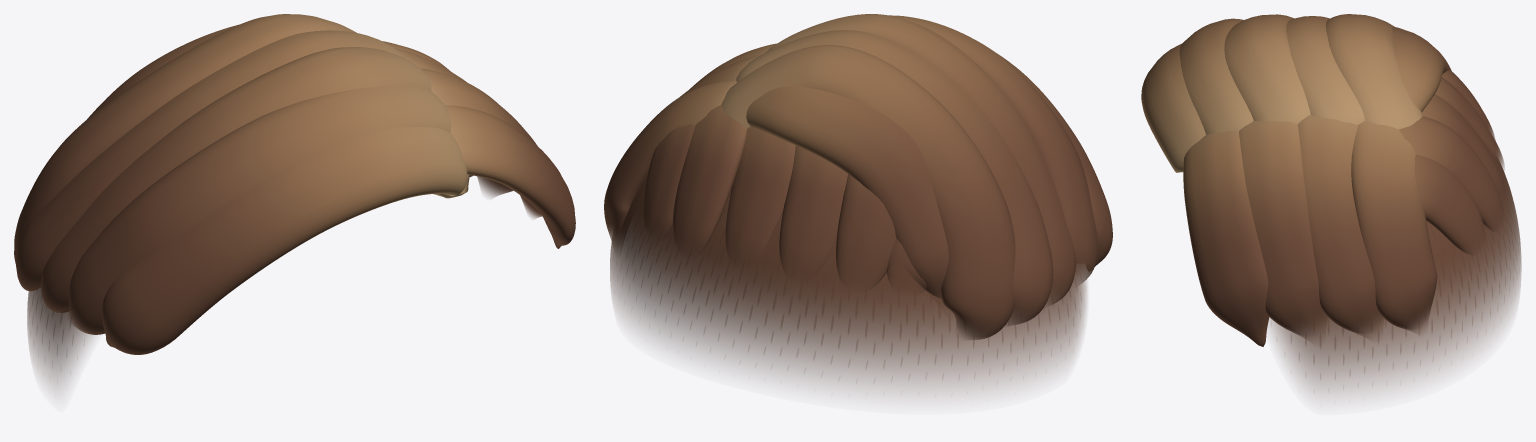
Rendered from Masculine-taper-ears258-hair-ombre.glb.
The picture shows the model from 3 angles, left to right: view 1: azimuth 30°, elevation 25°; view 2: azimuth 150°, elevation 25°; view 3: azimuth 270°, elevation 25°; orthographic projection. The views are drawn at different scales.
Parts seen in each view (by area): view 1: 226 hair / Hair258 / sculpted side sweep 1, 226 hair / Hair258 / sculpted side sweep 0, 226 hair / Hair258 / sculpted side sweep 2, 226 hair / Hair258 / smooth side fade; view 2: 226 hair / Hair258 / sculpted side sweep 0, 226 hair / Hair258 / smooth side fade, 226 hair / Hair258 / sculpted side sweep 1, 226 hair / Hair258 / sculpted side sweep 2, 226 hair / Hair258 / directional fade marks; view 3: 226 hair / Hair258 / sculpted side sweep 1, 226 hair / Hair258 / sculpted side sweep 0, 226 hair / Hair258 / sculpted side sweep 2, 226 hair / Hair258 / smooth side fade, 226 hair / Hair258 / directional fade marks.
Boxes of the visible parts, x1,y1,x2,y2 form: 226 hair / Hair258 / sculpted side sweep 1: (16,30,575,354); 226 hair / Hair258 / sculpted side sweep 0: (14,14,542,334); 226 hair / Hair258 / sculpted side sweep 2: (41,47,513,312); 226 hair / Hair258 / smooth side fade: (27,287,94,390); 226 hair / Hair258 / sculpted side sweep 0: (672,15,1098,339); 226 hair / Hair258 / smooth side fade: (610,179,1086,394); 226 hair / Hair258 / sculpted side sweep 1: (604,30,1112,325); 226 hair / Hair258 / sculpted side sweep 2: (643,14,1076,304); 226 hair / Hair258 / directional fade marks: (618,180,1081,368); 226 hair / Hair258 / sculpted side sweep 1: (1141,16,1504,346); 226 hair / Hair258 / sculpted side sweep 0: (1179,14,1503,337); 226 hair / Hair258 / sculpted side sweep 2: (1224,14,1504,334); 226 hair / Hair258 / smooth side fade: (1268,150,1521,396); 226 hair / Hair258 / directional fade marks: (1291,149,1516,378).
Size of the model in its own units: 0.9754 by 0.6474 by 0.7505.
